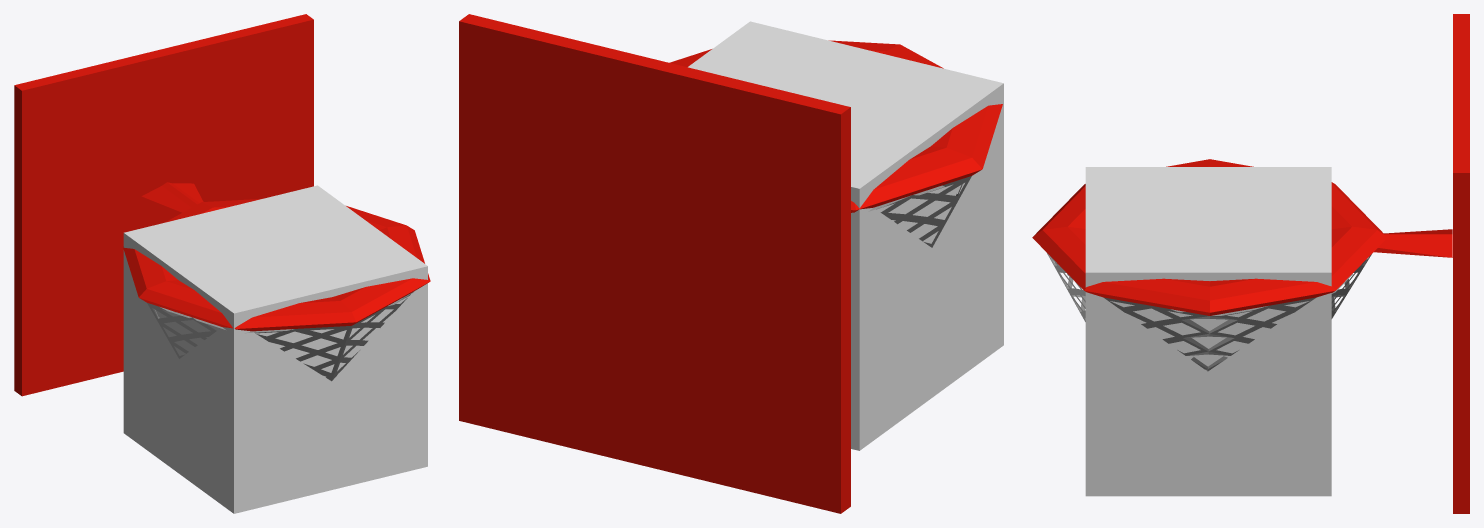
File: basket.fbx
The picture shows the model from 3 angles, left to right: view 1: azimuth 30°, elevation 25°; view 2: azimuth 150°, elevation 25°; view 3: azimuth 270°, elevation 25°; orthographic projection. The views are drawn at different scales.
Parts seen in each view (by area): view 1: Basket_LOD0, хитбокс; view 2: Basket_LOD0, хитбокс; view 3: хитбокс, Basket_LOD0.
Part boxes in pixels (box(x1,y1,x2,y2)): Basket_LOD0: box(14, 14, 430, 396); хитбокс: box(123, 185, 427, 513); Basket_LOD0: box(459, 14, 1002, 513); хитбокс: box(688, 21, 1003, 450); хитбокс: box(1085, 167, 1331, 496); Basket_LOD0: box(1032, 14, 1469, 513).
Size of what is drawn, in the model's own units: 78.04 by 80.26 by 90.79.
